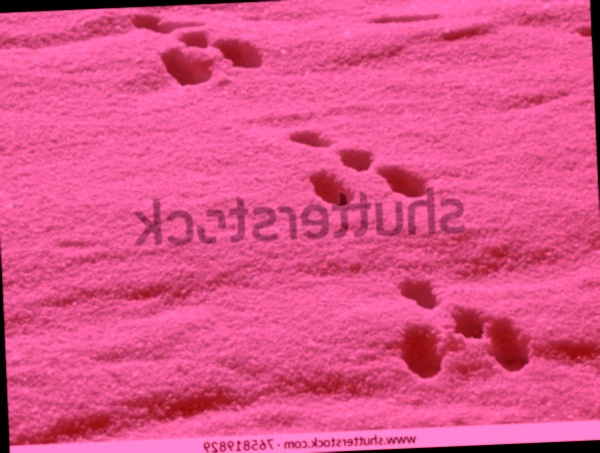lapin: (318, 2, 469, 93), (62, 301, 156, 394), (156, 322, 228, 389), (163, 159, 223, 211), (157, 278, 219, 320), (263, 124, 316, 153), (251, 170, 290, 209), (220, 146, 263, 174)
